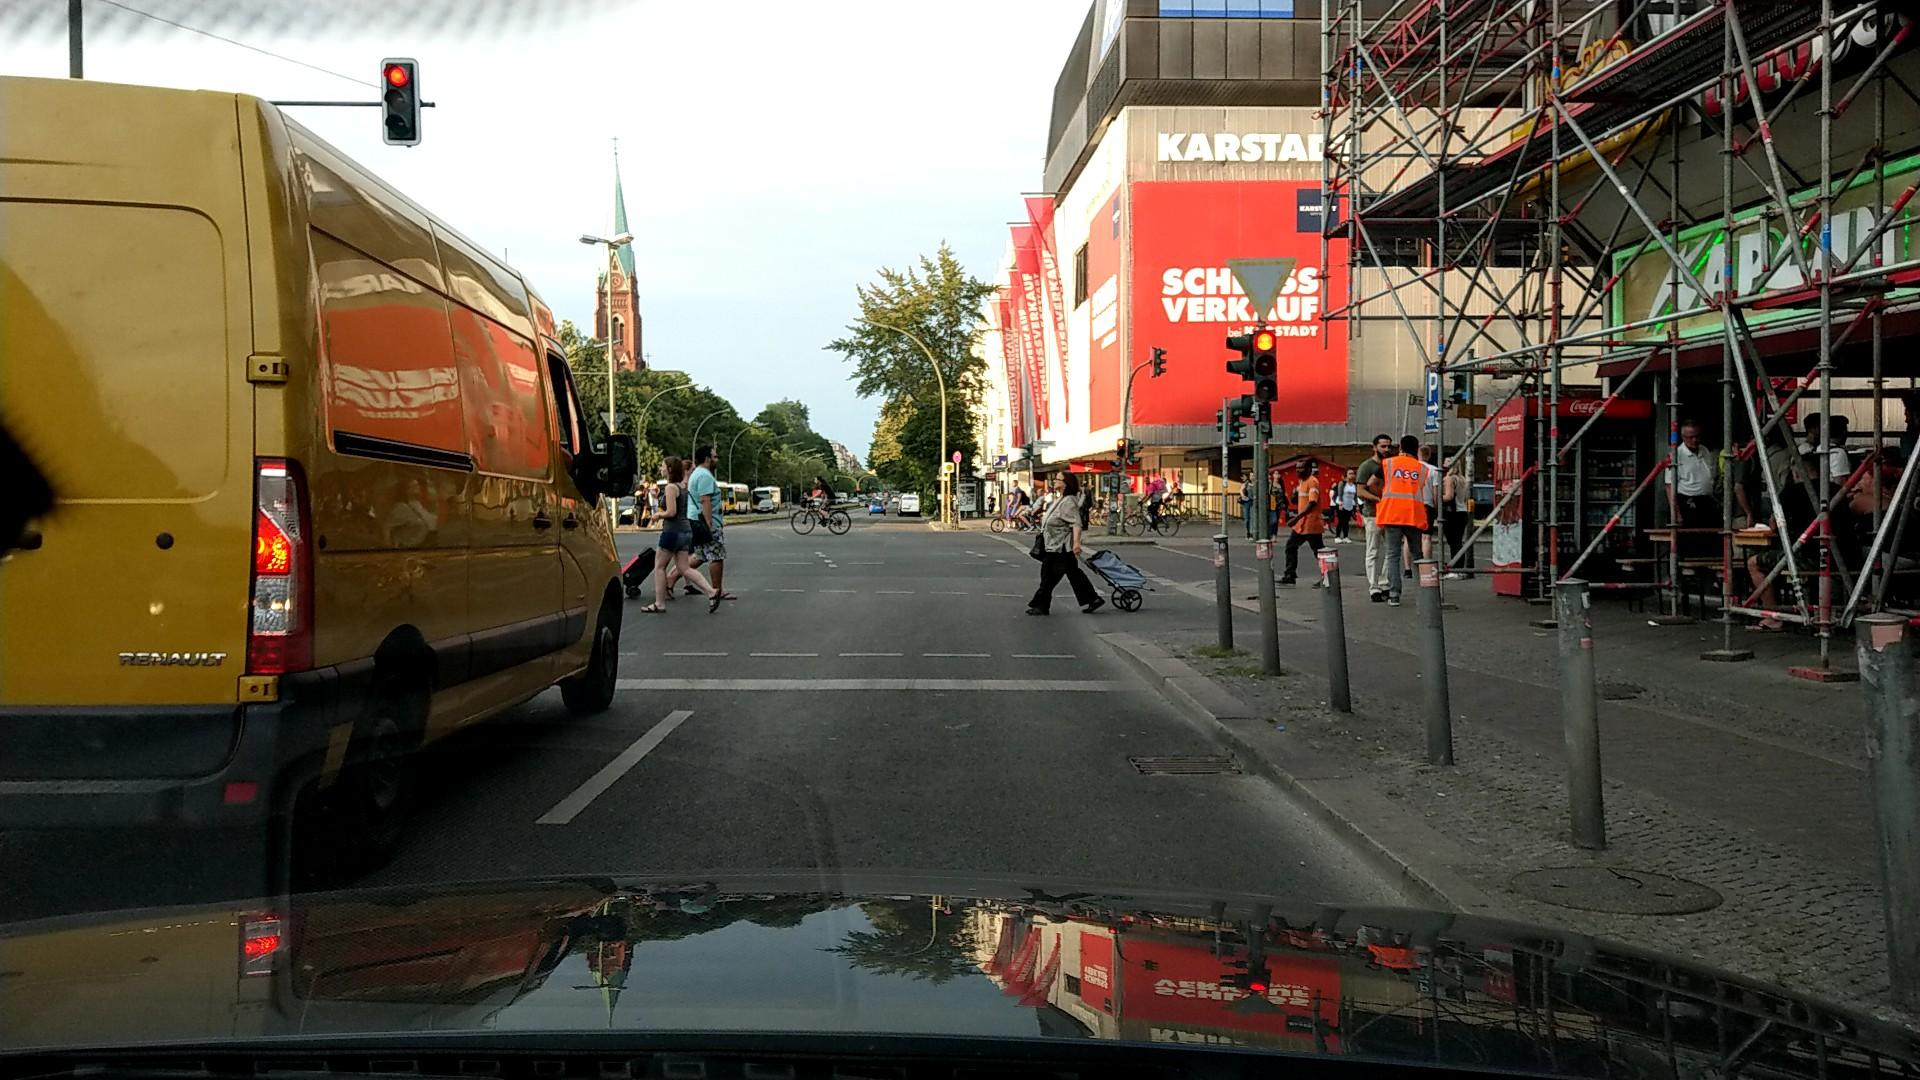Human face: (1682, 424, 1700, 450), (1375, 434, 1393, 458), (701, 447, 719, 470), (657, 457, 674, 479), (1052, 471, 1067, 490), (1295, 459, 1309, 478), (1346, 469, 1355, 482), (1271, 469, 1280, 481), (814, 475, 822, 485), (1142, 476, 1150, 485), (1011, 480, 1018, 488)
